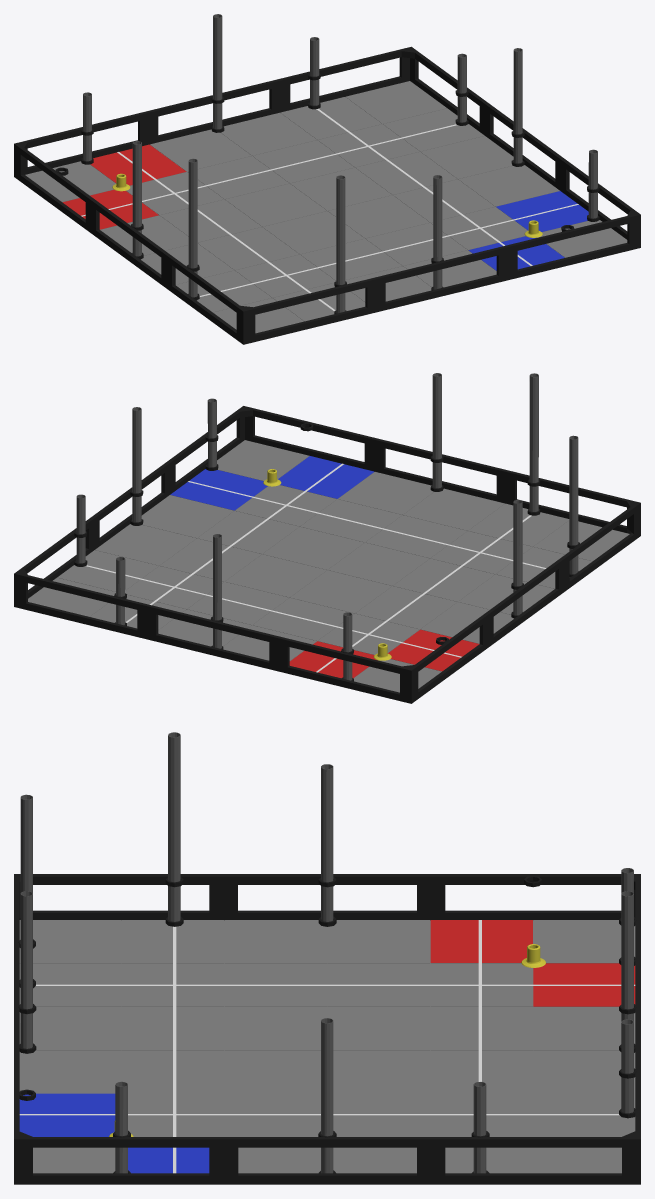
File: Field.fbx
3 renders of one model, top to bottom at view 1: azimuth 30°, elevation 25°; view 2: azimuth 150°, elevation 25°; view 3: azimuth 270°, elevation 25°, orthographic. The views are drawn at different scales.
Visible parts, largest first — view 1: Foam, Frames, Posts, Foam.001_hp, Foam.002_hp, Field Lines, Holsters; view 2: Foam, Frames, Posts, Foam.001_hp, Foam.002_hp, Field Lines, Holsters; view 3: Foam, Frames, Posts, Foam.002_hp, Foam.001_hp, Field Lines, Holsters.
Part boxes in pixels (left/top/right/bottom): Foam: left=25, top=81, right=627, bottom=333; Frames: left=14, top=46, right=640, bottom=344; Posts: left=83, top=14, right=597, bottom=313; Foam.001_hp: left=468, top=191, right=588, bottom=270; Foam.002_hp: left=63, top=144, right=186, bottom=229; Field Lines: left=81, top=108, right=578, bottom=311; Holsters: left=55, top=73, right=599, bottom=313; Foam: left=28, top=440, right=629, bottom=692; Frames: left=14, top=406, right=640, bottom=703; Posts: left=76, top=373, right=578, bottom=680; Foam.001_hp: left=170, top=456, right=374, bottom=510; Foam.002_hp: left=289, top=629, right=479, bottom=678; Field Lines: left=86, top=463, right=546, bottom=672; Holsters: left=74, top=423, right=579, bottom=681; Foam: left=19, top=920, right=635, bottom=1173; Frames: left=14, top=874, right=640, bottom=1184; Posts: left=20, top=732, right=633, bottom=1173; Foam.002_hp: left=430, top=920, right=635, bottom=1006; Foam.001_hp: left=19, top=1093, right=209, bottom=1173; Field Lines: left=19, top=920, right=635, bottom=1173; Holsters: left=18, top=875, right=636, bottom=1173.
Bounding box in the file's own units: 363 × 122 × 363.
